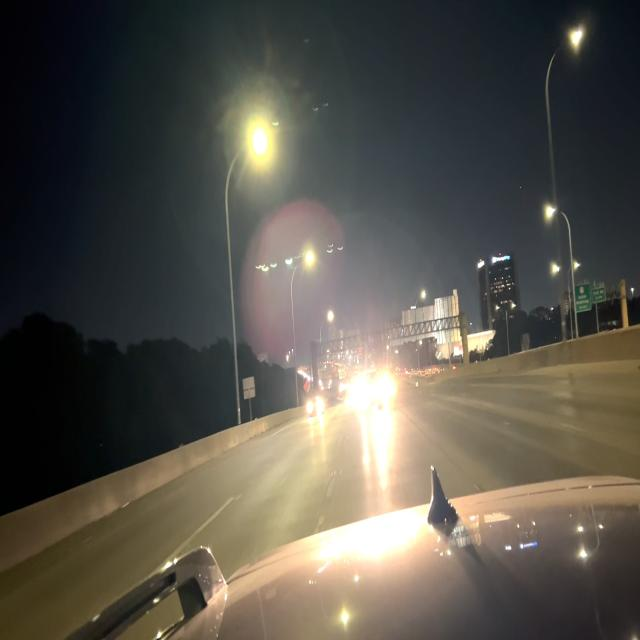back-of-sign: (386, 288, 460, 346), (242, 373, 256, 404)
